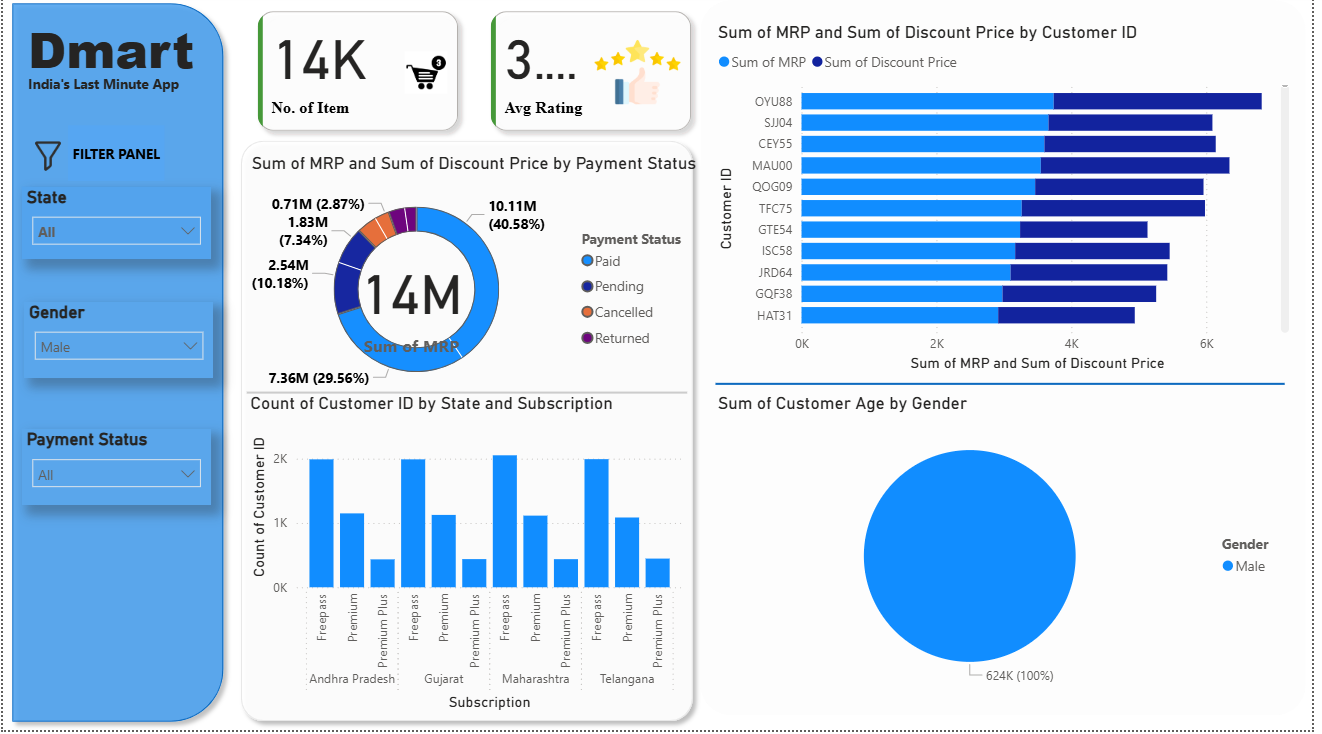

The page's visual inventory and layout, read from the dashboard file:
{"tool":"powerbi","page":{"name":"Dashboard","canvas":[1280,720],"ordinal":0},"visuals":[{"type":"shape","box":[0,0,224.6,720.9],"z":0},{"type":"textbox","box":[19.9,14.5,184.8,79.7],"z":1000},{"type":"textbox","box":[19.4,73.8,185.3,36.3],"z":2000},{"type":"cardVisual","fields":{"Data":["Dmart+Dataset.No. of Item","Dmart+Dataset.Avg Rating"]},"box":[232.5,0,458.8,151.2],"z":3000},{"type":"shape","box":[224.3,133.9,459.9,585.8],"z":4000},{"type":"donutChart","fields":{"Y":["Sum(Dmart+Dataset.MRP)","Sum(Dmart+Dataset.Discount Price)"],"Category":["Dmart+Dataset.Payment Status"]},"box":[238.8,154.9,445.4,248.5],"z":5000},{"type":"cardVisual","fields":{"Data":["Sum(Dmart+Dataset.MRP)"]},"box":[330.2,243.8,139.3,130.2],"z":6000},{"type":"columnChart","fields":{"Y":["CountNonNull(Dmart+Dataset.Customer ID)"],"Category":["Dmart+Dataset.State","Dmart+Dataset.Subscription"]},"box":[237.2,390.5,432.5,316.3],"z":7000},{"type":"shape","box":[682.8,6.5,592.1,699.6],"z":8000},{"type":"shape","box":[238.8,376,430.9,29],"z":9000},{"type":"barChart","fields":{"Category":["Dmart+Dataset.Customer ID","Dmart+Dataset.Payment Status"],"Y":["Sum(Dmart+Dataset.MRP)","Sum(Dmart+Dataset.Discount Price)"]},"box":[694.4,27.2,568.7,347.2],"z":10000},{"type":"pieChart","fields":{"Category":["Dmart+Dataset.Gender"],"Y":["Sum(Dmart+Dataset.Customer Age)"]},"box":[694.4,390,568.7,300.6],"z":11000},{"type":"shape","box":[697,373.1,557.1,16.8],"z":12000},{"type":"slicer","title":"State","fields":{"Values":["Dmart+Dataset.State","Dmart+Dataset.Rating","Dmart+Dataset.MRP","Dmart+Dataset.Payment Status"]},"box":[18.7,188.4,185,71.3],"z":13000},{"type":"slicer","title":"Gender","fields":{"Values":["Dmart+Dataset.Gender"]},"box":[20.4,300.4,185,74.7],"z":14000},{"type":"slicer","title":"Payment Status","fields":{"Values":["Dmart+Dataset.Payment Status"]},"box":[18.7,426,185,74.7],"z":15000},{"type":"shape","box":[63.5,128.3,94.6,54.4],"z":16000},{"type":"image","box":[22,139.9,44,38.9],"z":17000}]}

Visuals, with their boxes in screenshot pixels (x1, y1, x2, y2), scaled from the page's 1280x720 canvas onto the 1322x734 screenshot:
shape: (0, 0, 232, 733)
textbox: (21, 15, 211, 96)
textbox: (20, 75, 211, 112)
cardVisual - Dmart+Dataset.No. of Item x Dmart+Dataset.Avg Rating: (240, 0, 714, 154)
shape: (232, 137, 707, 733)
donutChart - Sum(Dmart+Dataset.MRP) x Sum(Dmart+Dataset.Discount Price): (247, 158, 707, 411)
cardVisual - Sum(Dmart+Dataset.MRP): (341, 249, 485, 381)
columnChart - CountNonNull(Dmart+Dataset.Customer ID) x Dmart+Dataset.State: (245, 398, 692, 721)
shape: (705, 7, 1317, 720)
shape: (247, 383, 692, 413)
barChart - Dmart+Dataset.Customer ID x Dmart+Dataset.Payment Status: (717, 28, 1305, 382)
pieChart - Dmart+Dataset.Gender x Sum(Dmart+Dataset.Customer Age): (717, 398, 1305, 704)
shape: (720, 380, 1295, 397)
"State" slicer: (19, 192, 210, 265)
"Gender" slicer: (21, 306, 212, 382)
"Payment Status" slicer: (19, 434, 210, 510)
shape: (66, 131, 163, 186)
image: (23, 143, 68, 182)
